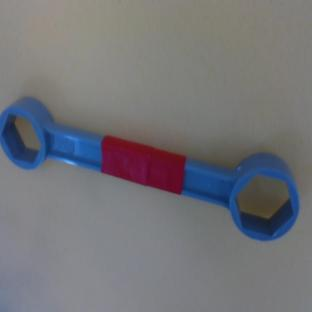part_3_good: (0, 91, 310, 247)
